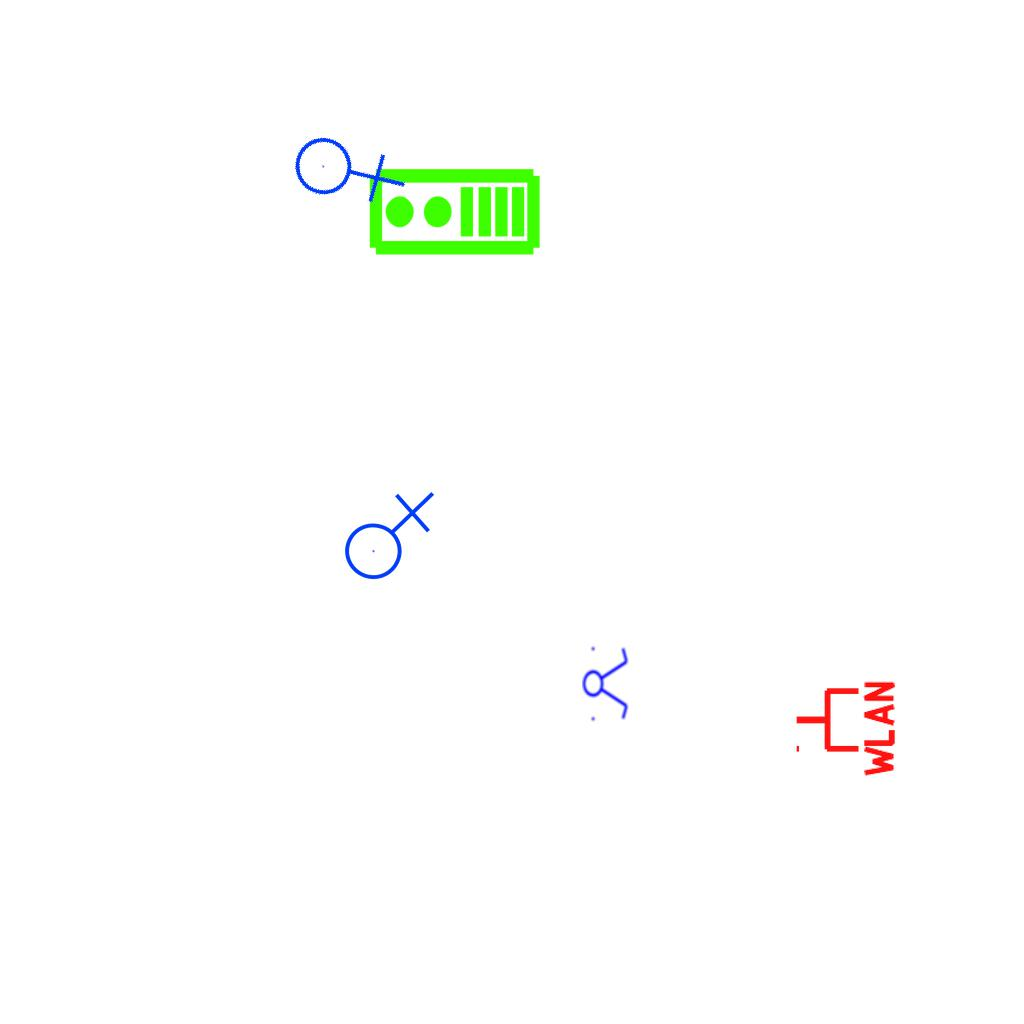Elektroanschluss_allgemein_230V_Geraeteanschlussdose_230V: (278, 99, 411, 235), (336, 487, 435, 581)
Gegensprechanlage_mit_Video: (366, 166, 542, 261)
Serienschalter: (582, 641, 630, 725)
WLAN: (792, 677, 897, 781)
